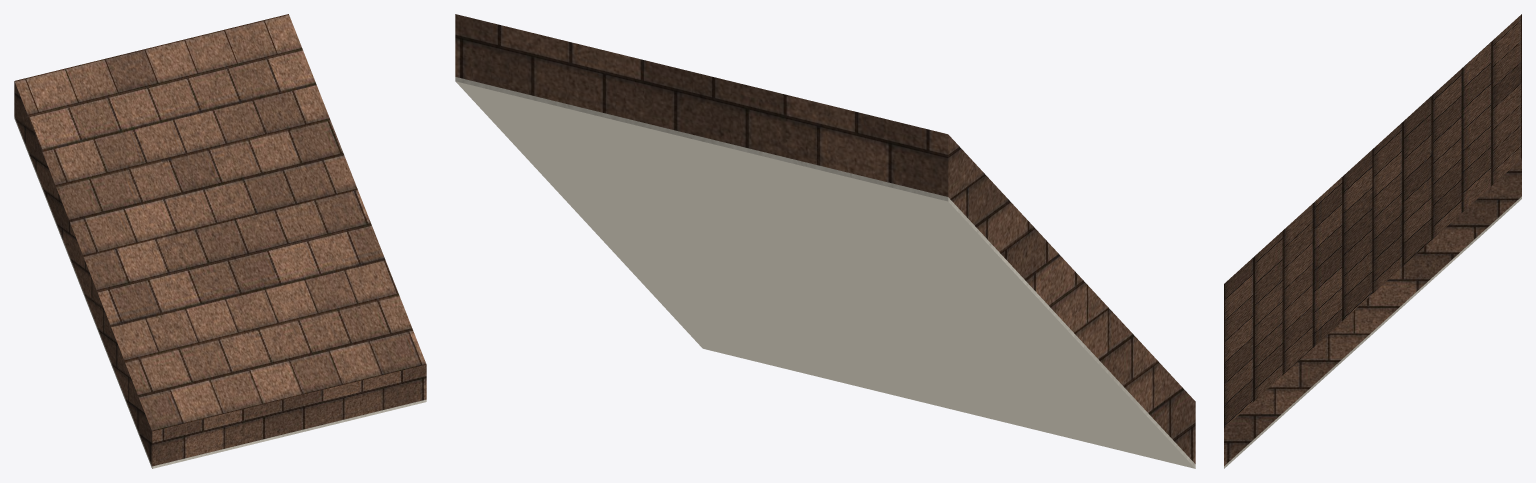
Rendered from roof_valley_end_l.glb.
The picture shows the model from 3 angles, left to right: view 1: azimuth 30°, elevation 25°; view 2: azimuth 150°, elevation 25°; view 3: azimuth 270°, elevation 25°; orthographic projection. The views are drawn at different scales.
Visible parts, largest first — view 1: roof_valley_end_l_shingle, roof_valley_end_l_plaster; view 2: roof_valley_end_l_plaster, roof_valley_end_l_shingle; view 3: roof_valley_end_l_shingle, roof_valley_end_l_plaster.
Part boxes in pixels (<box>): roof_valley_end_l_shingle: <box>14,14,426,466</box>; roof_valley_end_l_plaster: <box>14,116,426,468</box>; roof_valley_end_l_plaster: <box>455,77,1195,468</box>; roof_valley_end_l_shingle: <box>455,14,1195,463</box>; roof_valley_end_l_shingle: <box>1224,14,1521,465</box>; roof_valley_end_l_plaster: <box>1224,196,1521,468</box>.
Bounding box in the file's own units: 2.3 × 2.3 × 2.
Materials: 2 (2 with a texture image).
